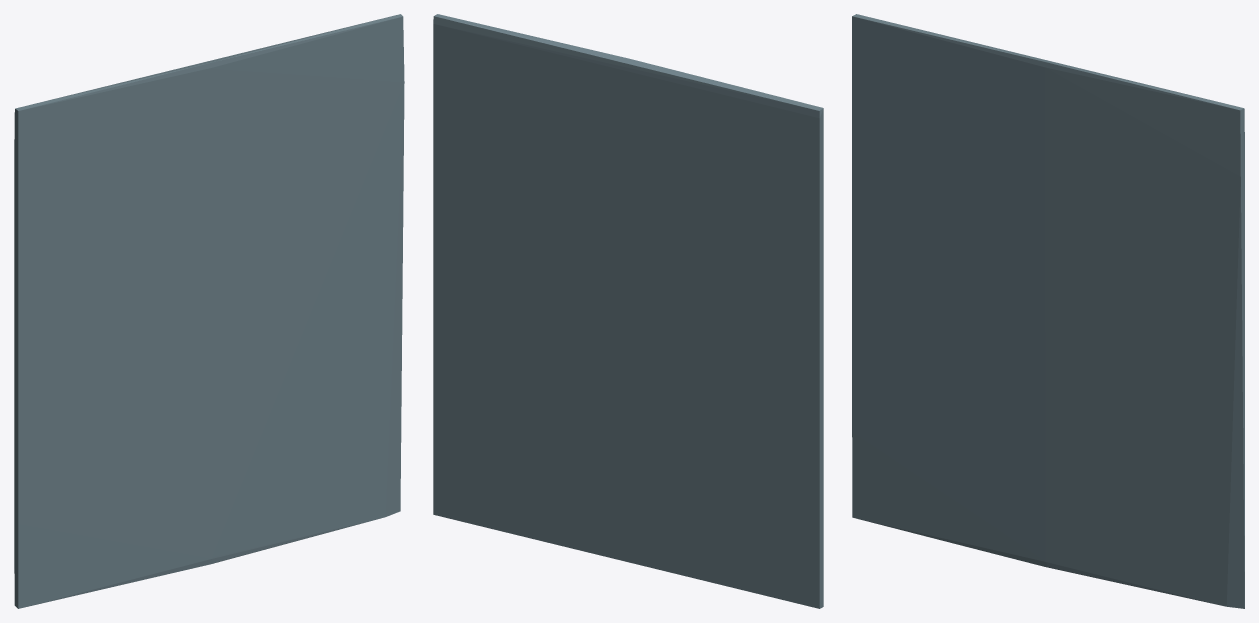
File: lighting_main_light_a01.glb
The picture shows the model from 3 angles, left to right: view 1: azimuth 30°, elevation 25°; view 2: azimuth 150°, elevation 25°; view 3: azimuth 330°, elevation 25°; orthographic projection.
Parts seen in each view (by area): view 1: geometry_0; view 2: geometry_0; view 3: geometry_0.
Part boxes in pixels (bbox=[...]): geometry_0: bbox=[14, 14, 404, 608]; geometry_0: bbox=[433, 14, 823, 608]; geometry_0: bbox=[852, 14, 1244, 608].
Size of the model in its own units: 0.3862 by 0.4799 by 0.0079.
